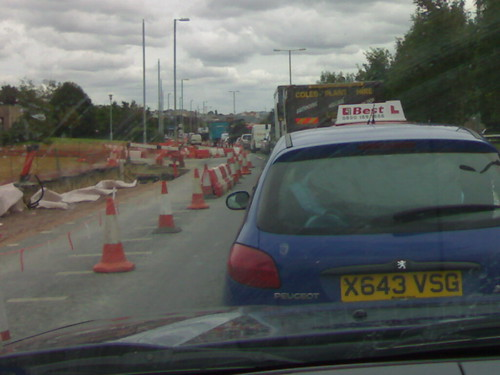car: (242, 121, 497, 316)
sky: (1, 1, 398, 92)
traffic cone: (91, 186, 138, 274), (148, 179, 186, 237), (185, 166, 211, 210)
